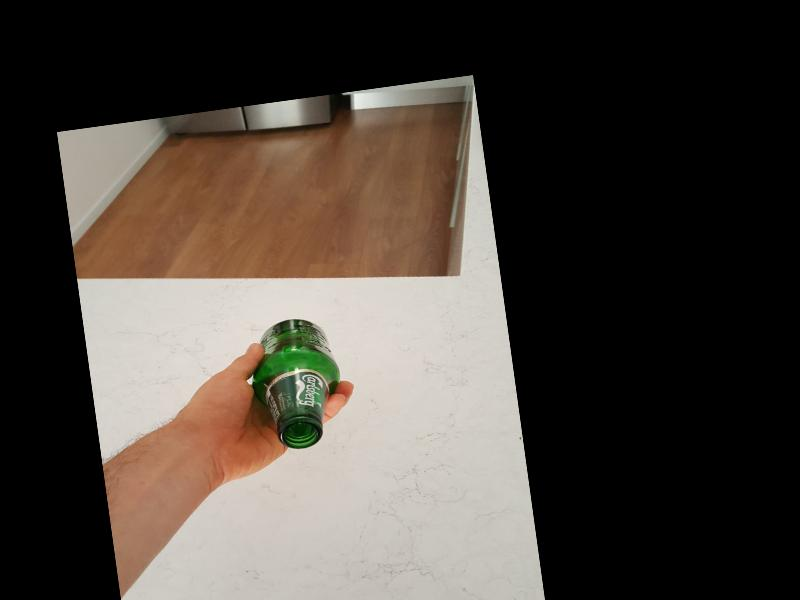Beer: (245, 313, 348, 454)
